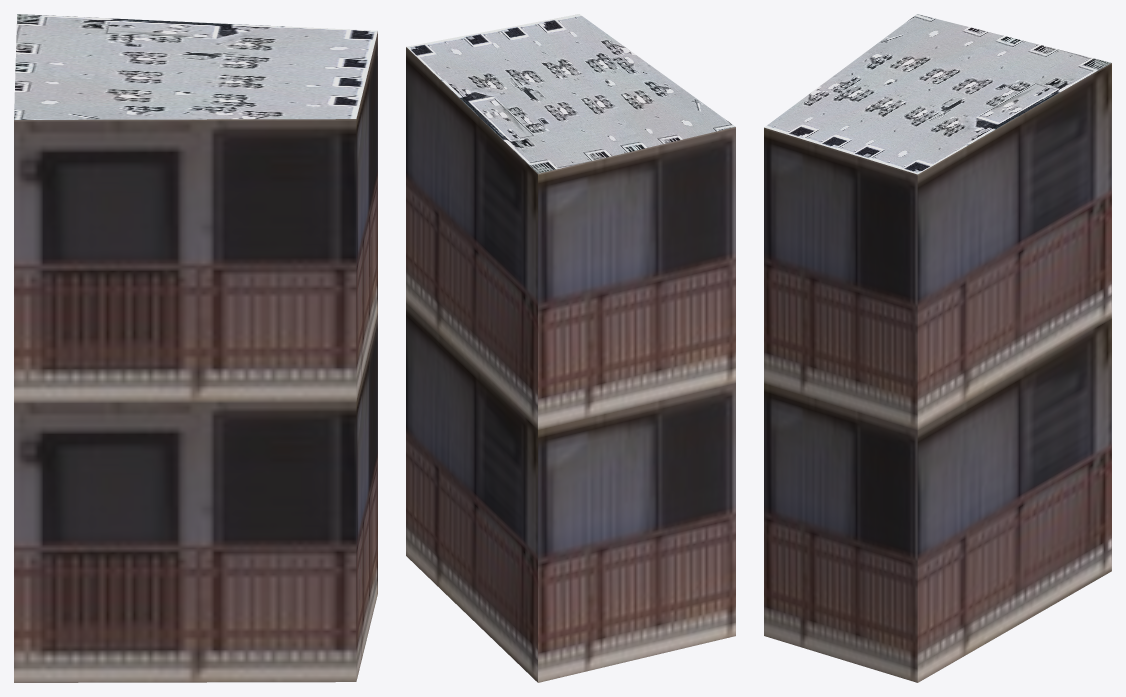
Rendered from ResTex__2012.fbx.
The picture shows the model from 3 angles, left to right: view 1: azimuth 30°, elevation 25°; view 2: azimuth 150°, elevation 25°; view 3: azimuth 270°, elevation 25°; orthographic projection. The views are drawn at different scales.
Parts seen in each view (by area): view 1: CityEngineMaterial_6_m, CityEngineMaterial_4_m; view 2: CityEngineMaterial_6_m, CityEngineMaterial_4_m; view 3: CityEngineMaterial_6_m, CityEngineMaterial_4_m.
Part boxes in pixels (x1=…): CityEngineMaterial_6_m: x1=14, y1=31, x2=377, y2=682; CityEngineMaterial_4_m: x1=14, y1=14, x2=377, y2=119; CityEngineMaterial_6_m: x1=406, y1=47, x2=735, y2=682; CityEngineMaterial_4_m: x1=406, y1=14, x2=735, y2=173; CityEngineMaterial_6_m: x1=764, y1=63, x2=1111, y2=682; CityEngineMaterial_4_m: x1=764, y1=14, x2=1111, y2=174.
Bounding box in the file's own units: 4.06 × 6 × 3.72.
Materials: 2 (2 with a texture image).
